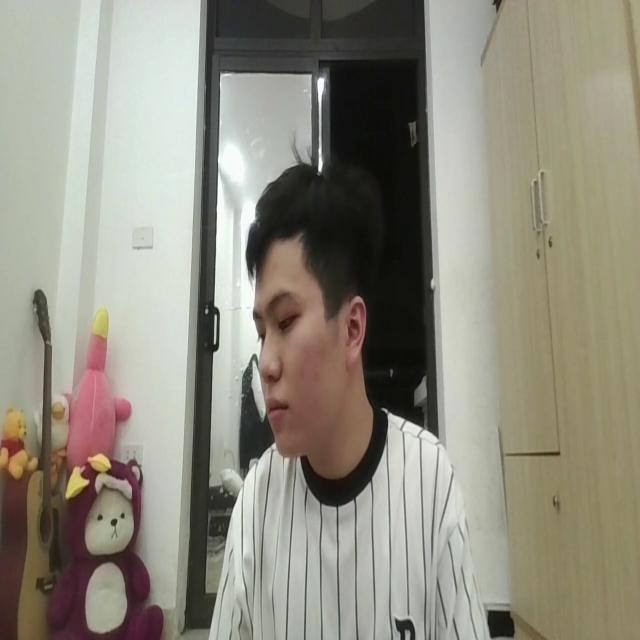student: (202, 144, 488, 640)
